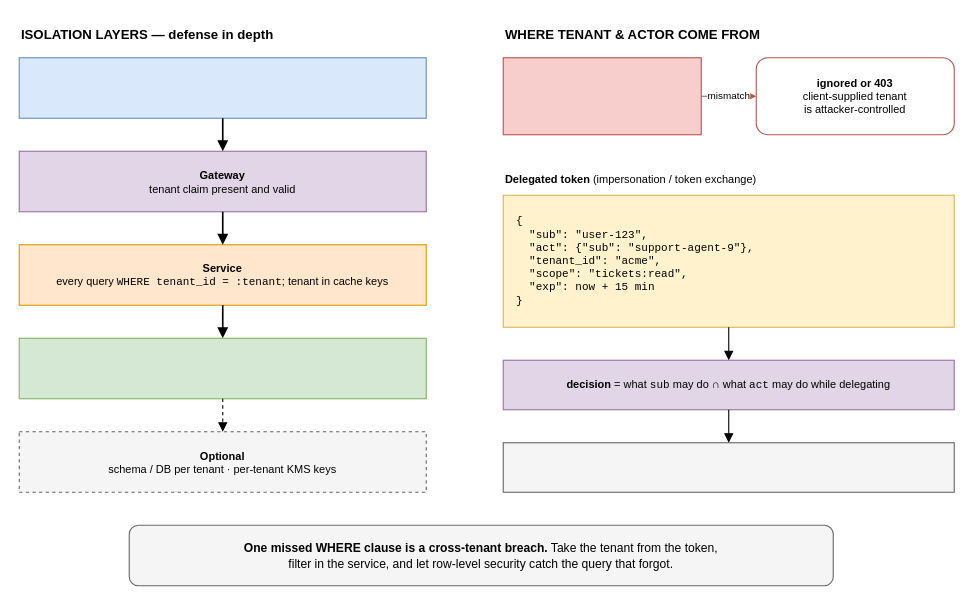
This 974x605 diagram has some shape labels left out. The box of each missing label's shape, as (x1, y1, x2, y2) in pixels:
audit log records both identities · scoped · time-boxed: (502, 442, 954, 492)
Client sends X-Tenant-ID: globex (token says acme): (502, 57, 701, 135)
Database row-level security on app.tenant_id (transaction-local): (18, 337, 426, 399)
Verified token sub + tenant_id — the only source of truth: (18, 57, 426, 118)
